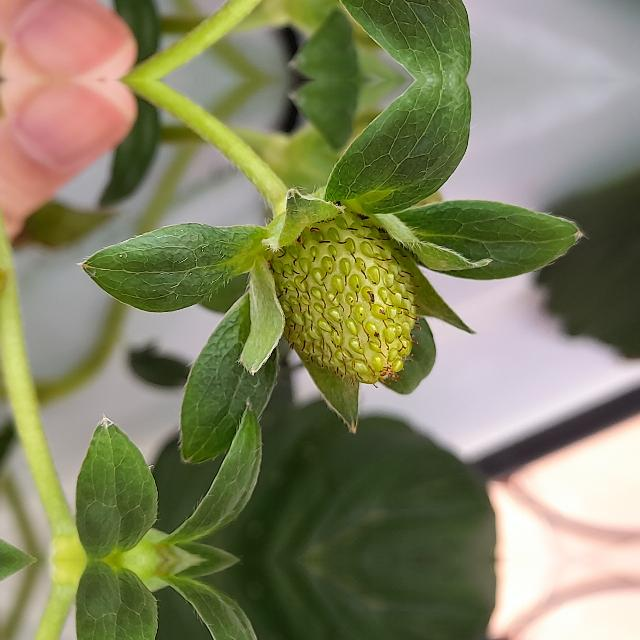Health_25: (265, 206, 421, 388)
